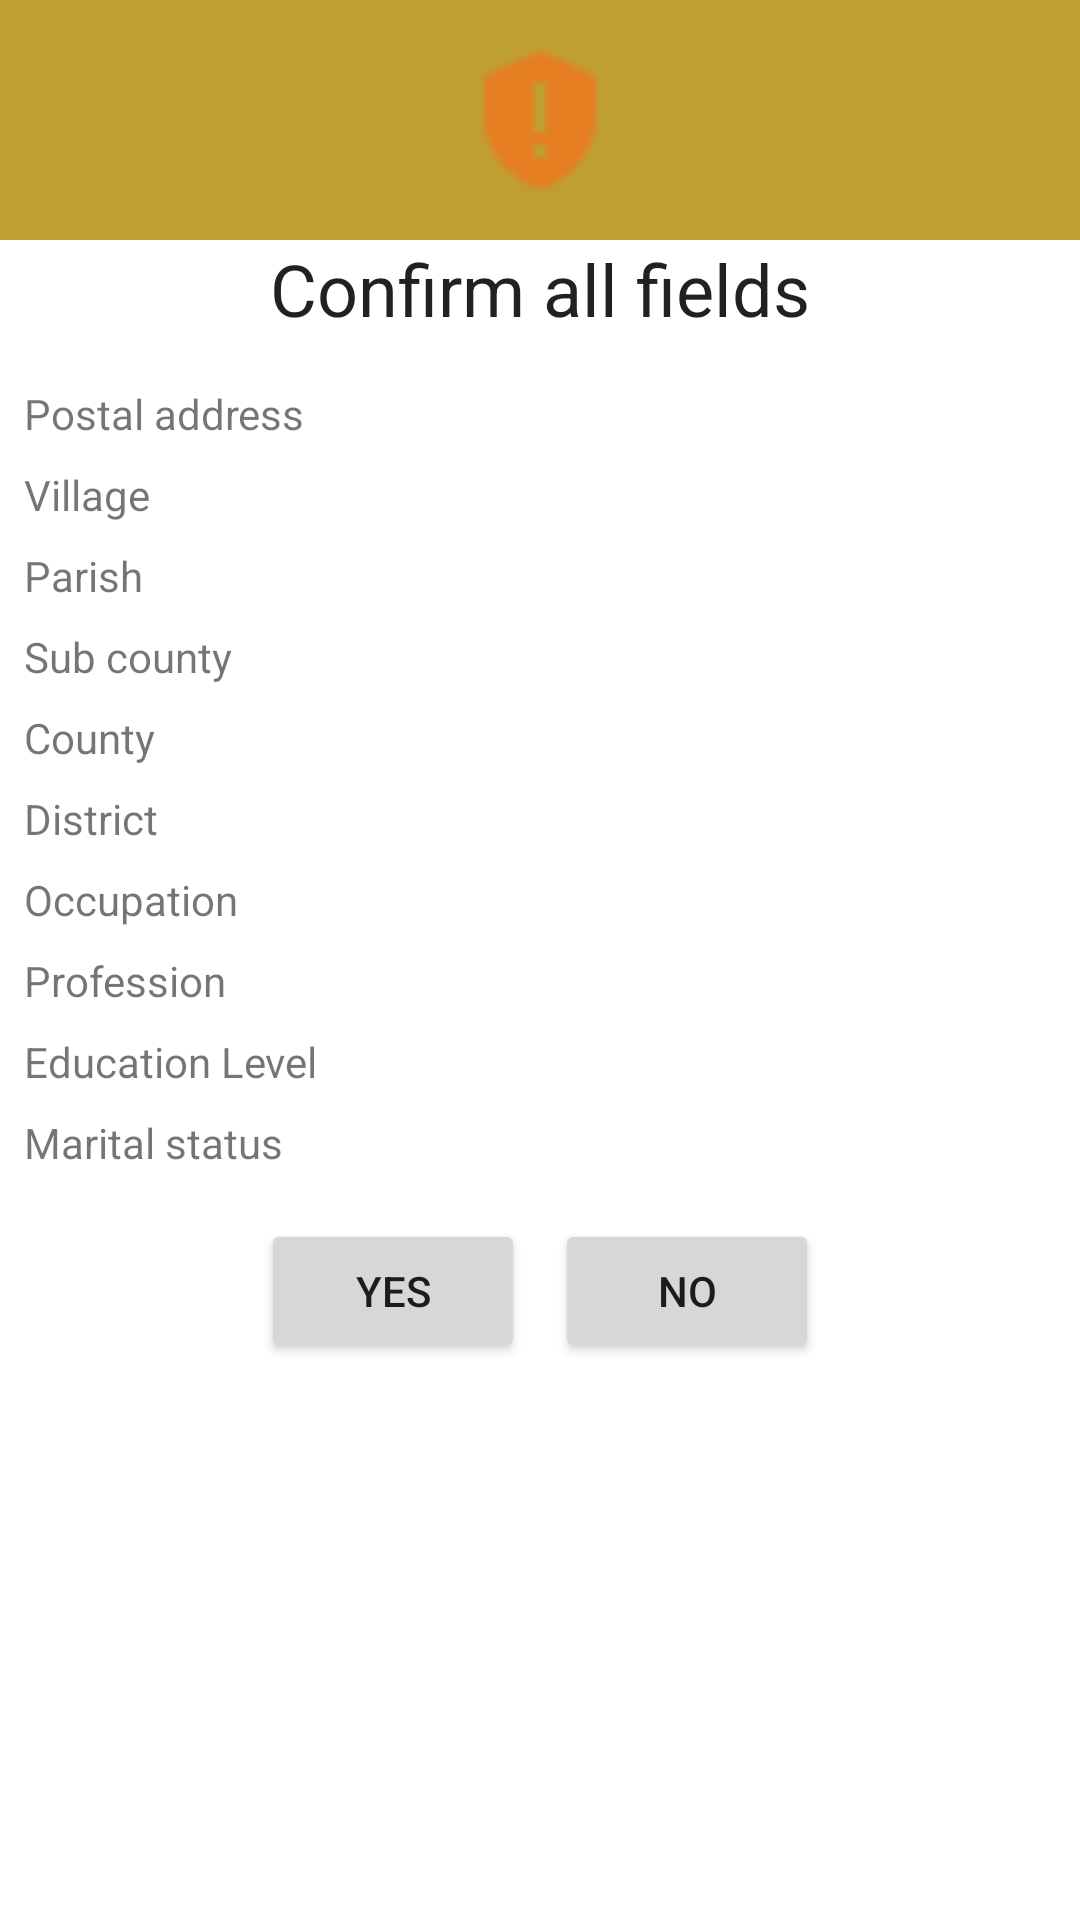

Named icons in this screenshot (1080 x 1920) and their bounding boxes, (x1, y1, x2, y2):
warning: (485, 53, 596, 187)
